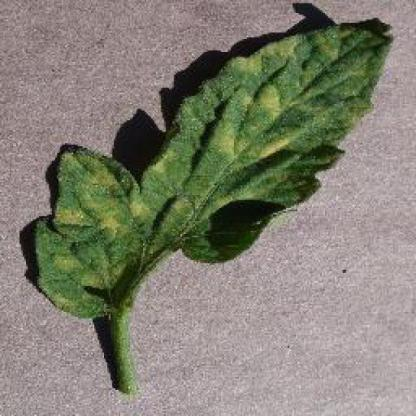Tomato_Leaf_Mold: (33, 24, 396, 318)
